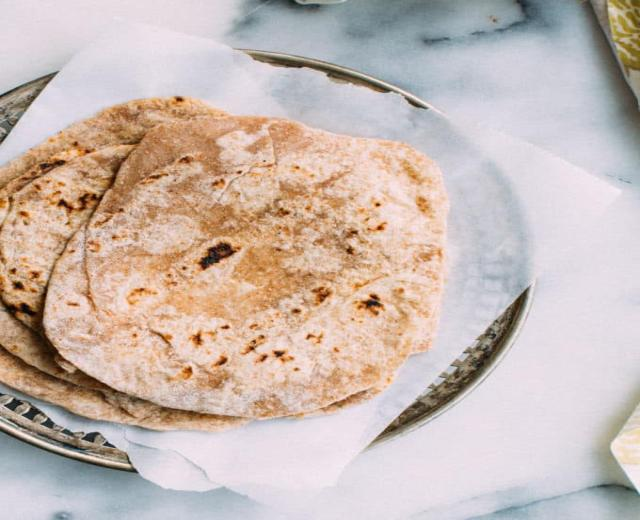chapati: (43, 116, 446, 418)
